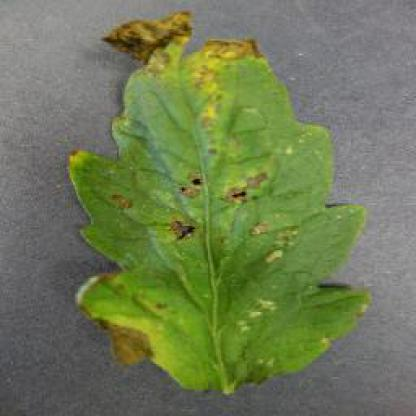bad leaf: (59, 0, 388, 397)
